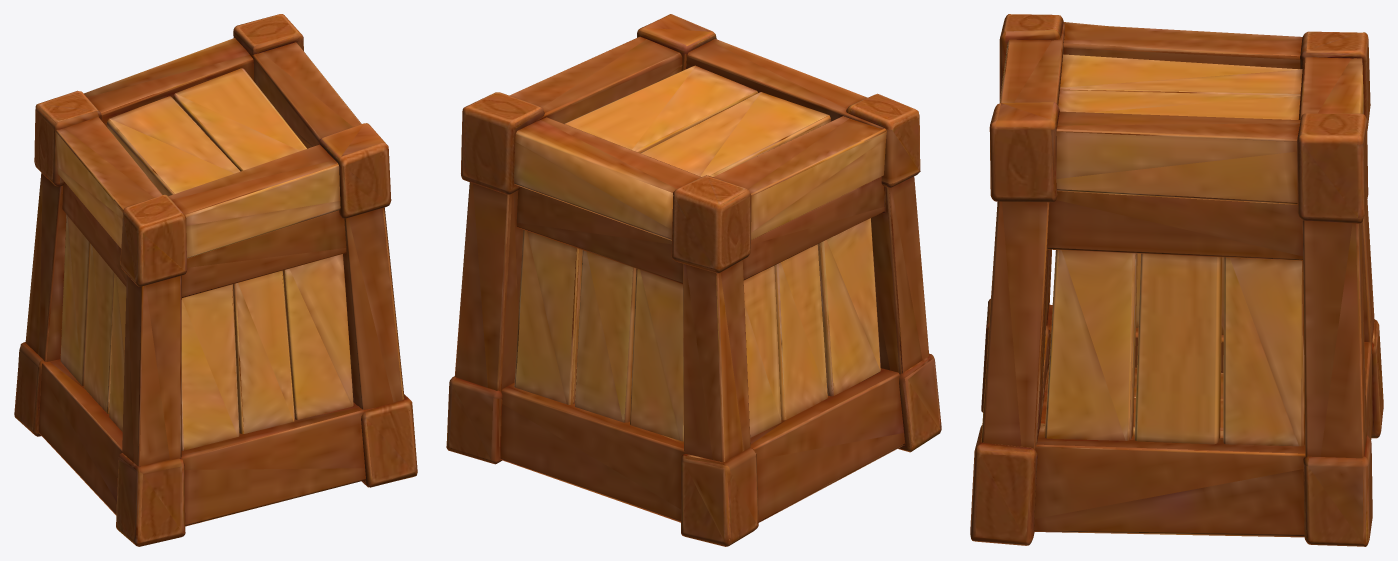
Rendered from crate.glb.
3 renders of one model, left to right at view 1: azimuth 30°, elevation 25°; view 2: azimuth 150°, elevation 25°; view 3: azimuth 270°, elevation 25°, orthographic. The views are drawn at different scales.
Size of the model in its own units: 0.9334 by 0.9978 by 0.8662.
1 material, 1 textured.
